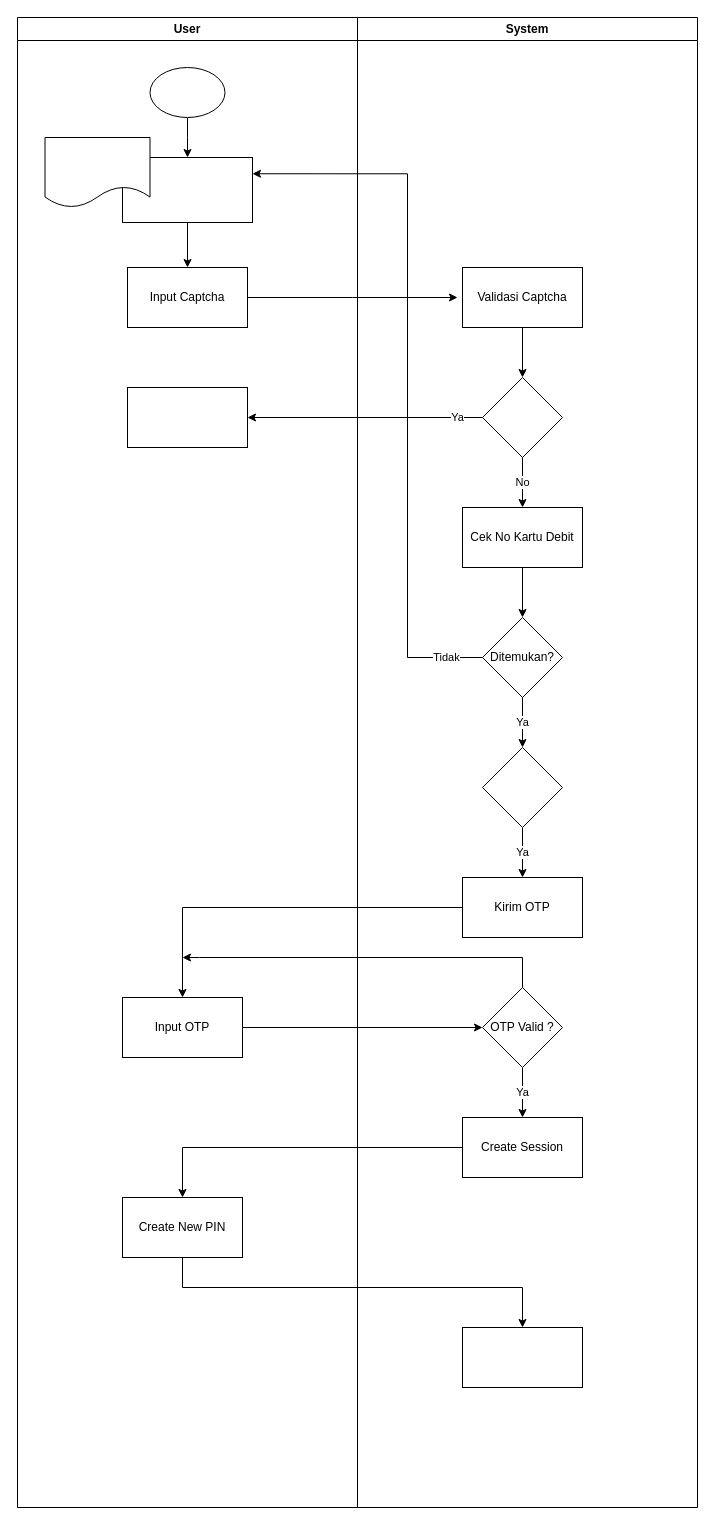
The diagram is 715 pixels wide and 1525 high, and some of its shapes have lost their labels. Here are the shapes that lost their labels. From the top down, the centre of each, then its label:
the point at 97,172: No Kartu Debit No HP No Account
the point at 187,189: Isi e-Form
the point at 187,417: Coba kembali pada esok hari
the point at 522,417: Sudah hit > 3x request?
the point at 522,787: Aktif?
